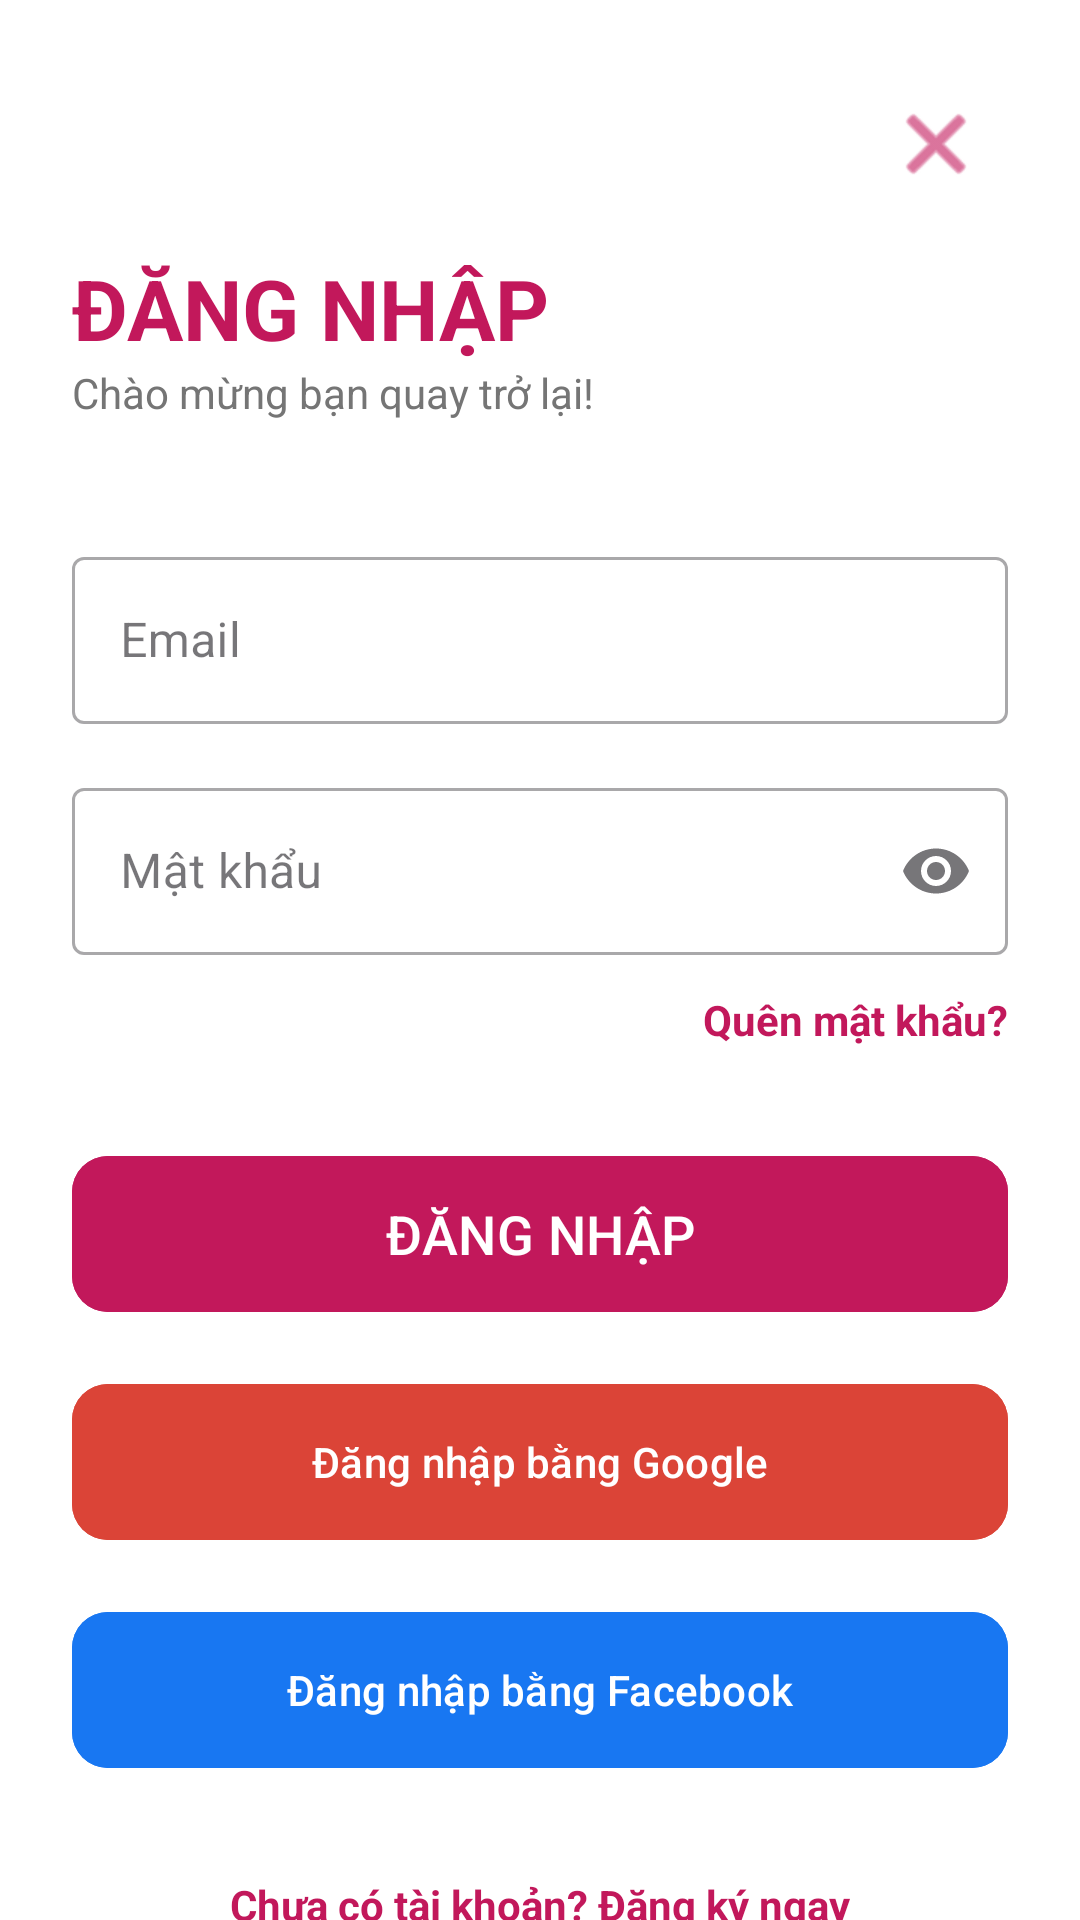

Named icons in this screenshot (1080w x 1920h) and their centers, point (x, y):
Đóng: point (936, 144)
